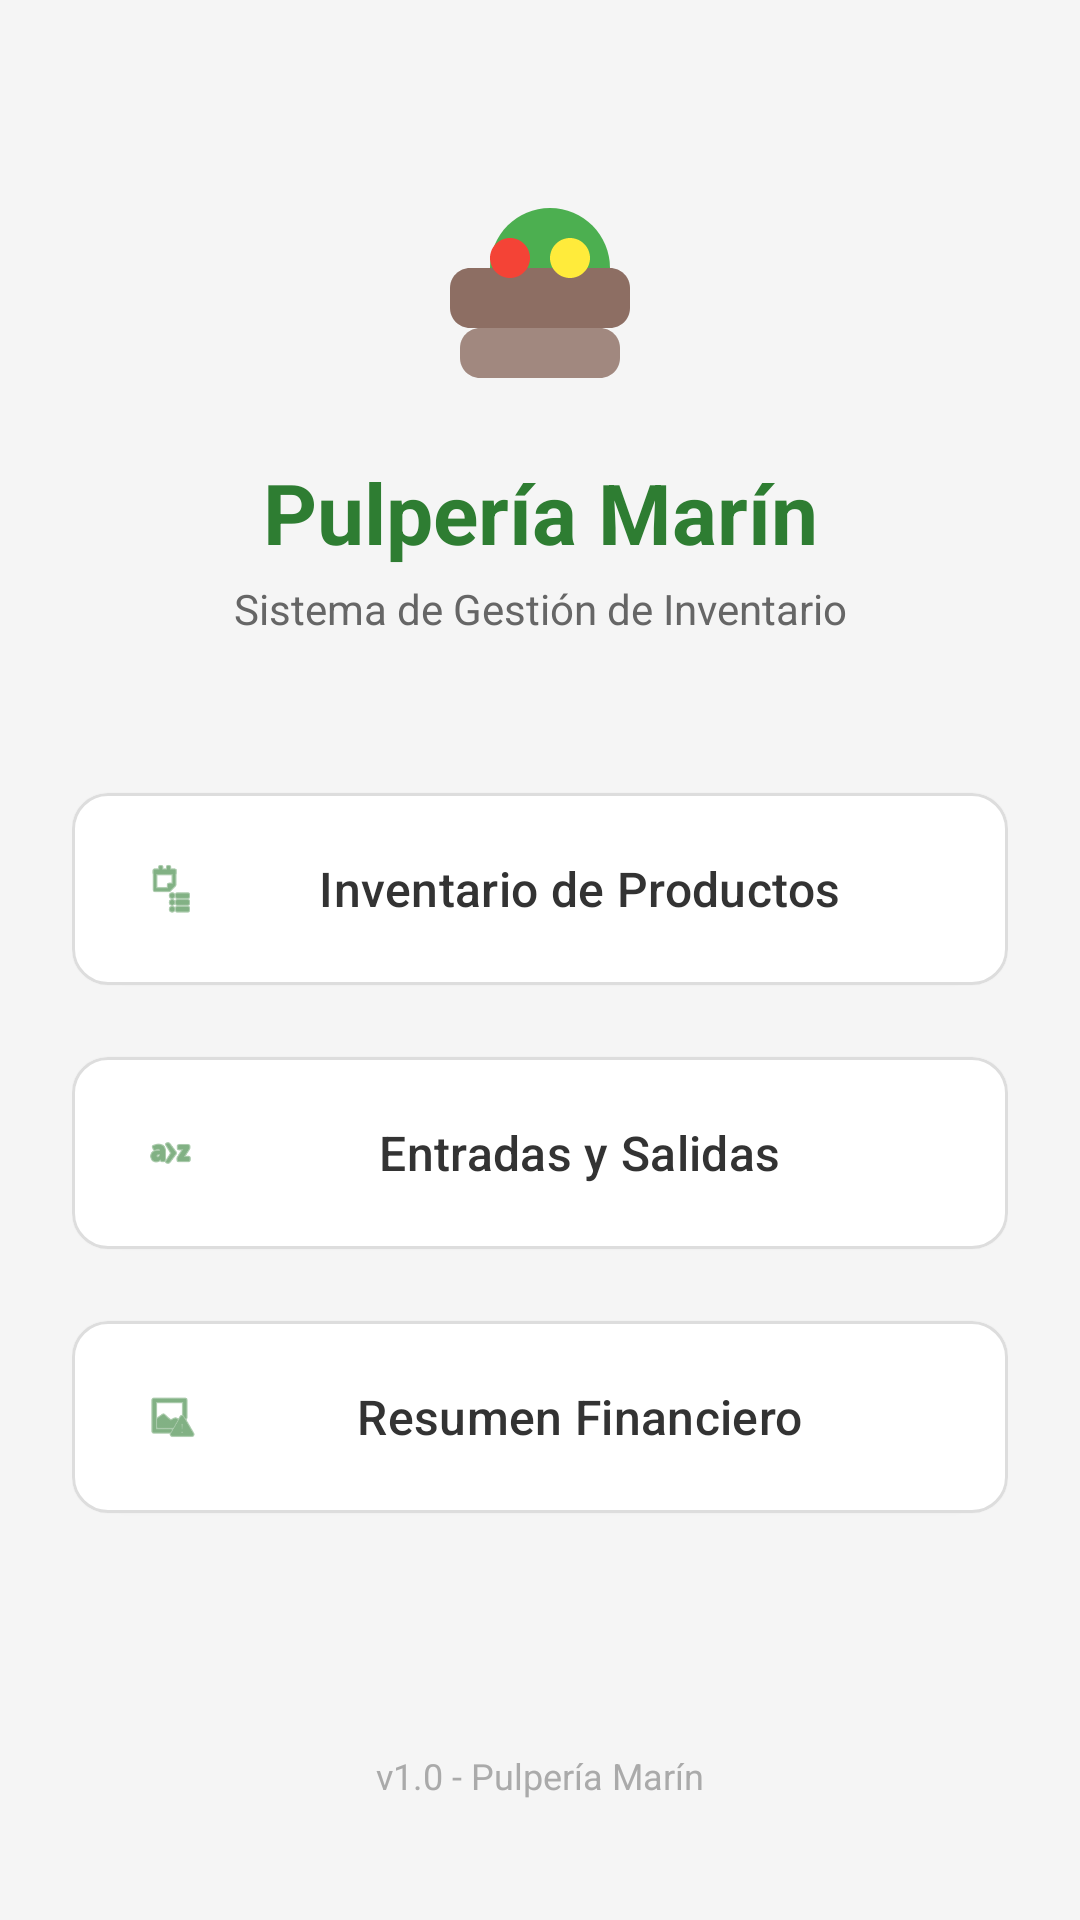

Screen size 1080px x 1920px. Icon name, then its center in pixels as (x,y):
basket: (540,293)
